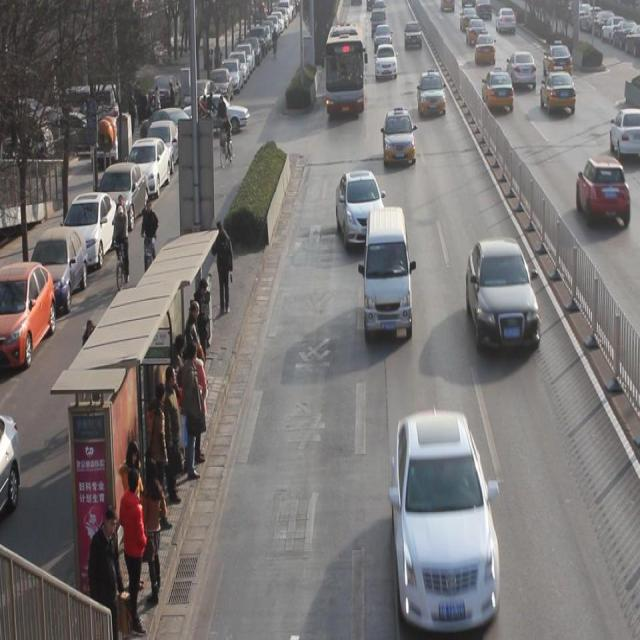car: (391, 409, 500, 624), (466, 237, 540, 353), (577, 155, 630, 228), (336, 170, 384, 248), (384, 107, 415, 169), (540, 70, 577, 114), (610, 109, 640, 163), (482, 65, 514, 112), (418, 68, 446, 118), (506, 50, 537, 90), (544, 40, 573, 82), (474, 30, 496, 65), (376, 44, 398, 79), (404, 20, 422, 52), (467, 18, 486, 46), (374, 24, 392, 50)
truck: (365, 208, 413, 340)
van: (326, 23, 364, 116)
